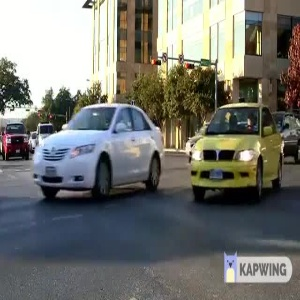car: (31, 101, 167, 198), (184, 101, 284, 203)
truck: (4, 118, 30, 164)
